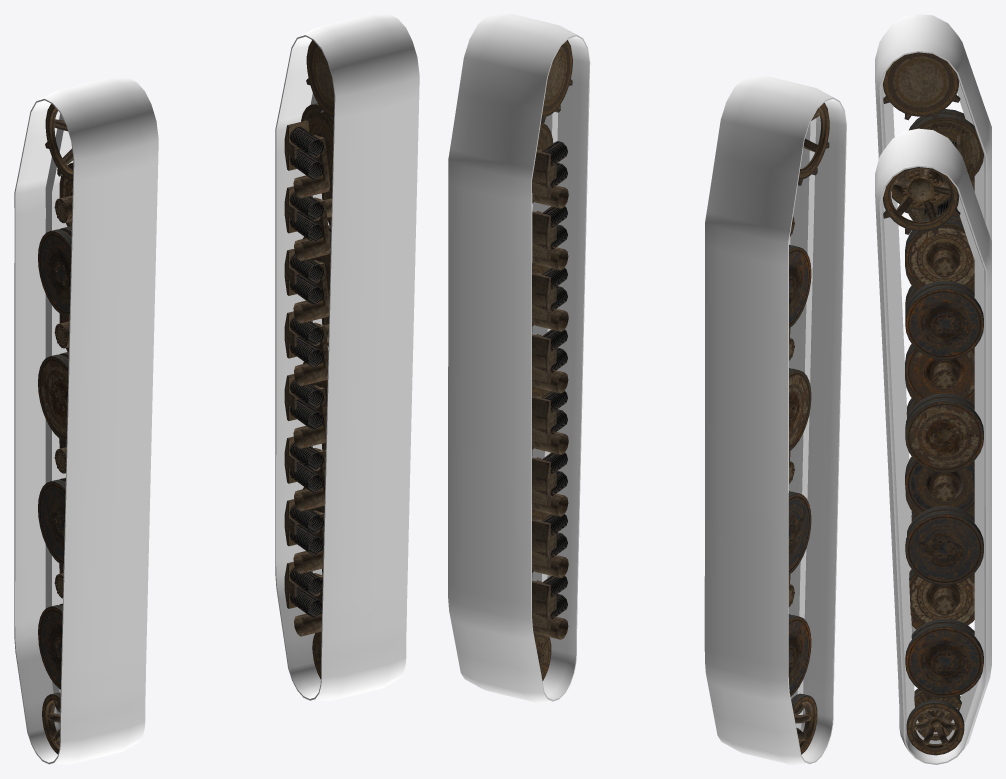
The model's file is Chassis_03.glb.
The picture shows the model from 3 angles, left to right: view 1: azimuth 30°, elevation 25°; view 2: azimuth 150°, elevation 25°; view 3: azimuth 270°, elevation 25°; orthographic projection. The views are drawn at different scales.
Parts seen in each view (by area): view 1: set_0_group_0, set_1_group_0, set_3_group_0, set_2_group_0; view 2: set_0_group_0, set_1_group_0, set_3_group_0, set_2_group_0; view 3: set_3_group_0, set_1_group_0, set_0_group_0, set_2_group_0.
Part boxes in pixels (x1,y1,x2,y2): set_0_group_0: (14,77,158,764); set_1_group_0: (275,14,419,701); set_3_group_0: (284,40,334,679); set_2_group_0: (38,104,73,754); set_0_group_0: (704,76,846,764); set_1_group_0: (448,14,590,702); set_3_group_0: (532,40,572,680); set_2_group_0: (788,103,829,754); set_3_group_0: (882,167,983,755); set_1_group_0: (875,128,991,764); set_0_group_0: (875,14,991,633); set_2_group_0: (883,52,983,629).
Size of the model in its own units: 3.69 by 6.88 by 1.2.
4 materials, 2 textured.
